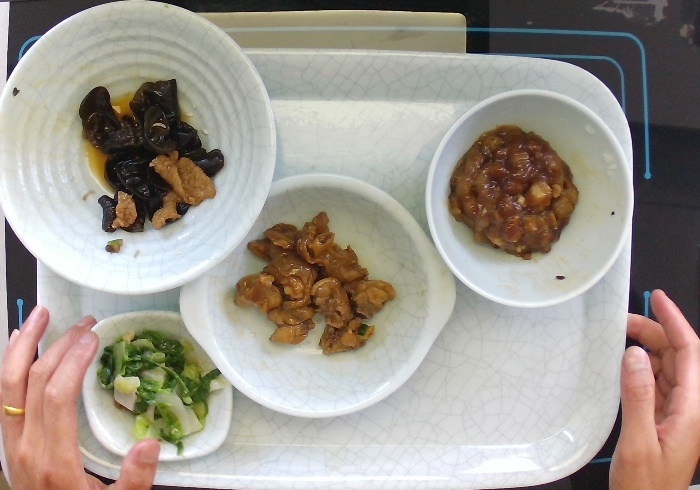JYsf-Fan_Wan: (423, 88, 636, 310)
JYsf-Shuang_Er_Wan: (177, 171, 456, 419)
JYsf-Si_Fang_Die: (80, 308, 234, 464)
JYsf-Xiao_Tang_Wan: (1, 1, 279, 297)
